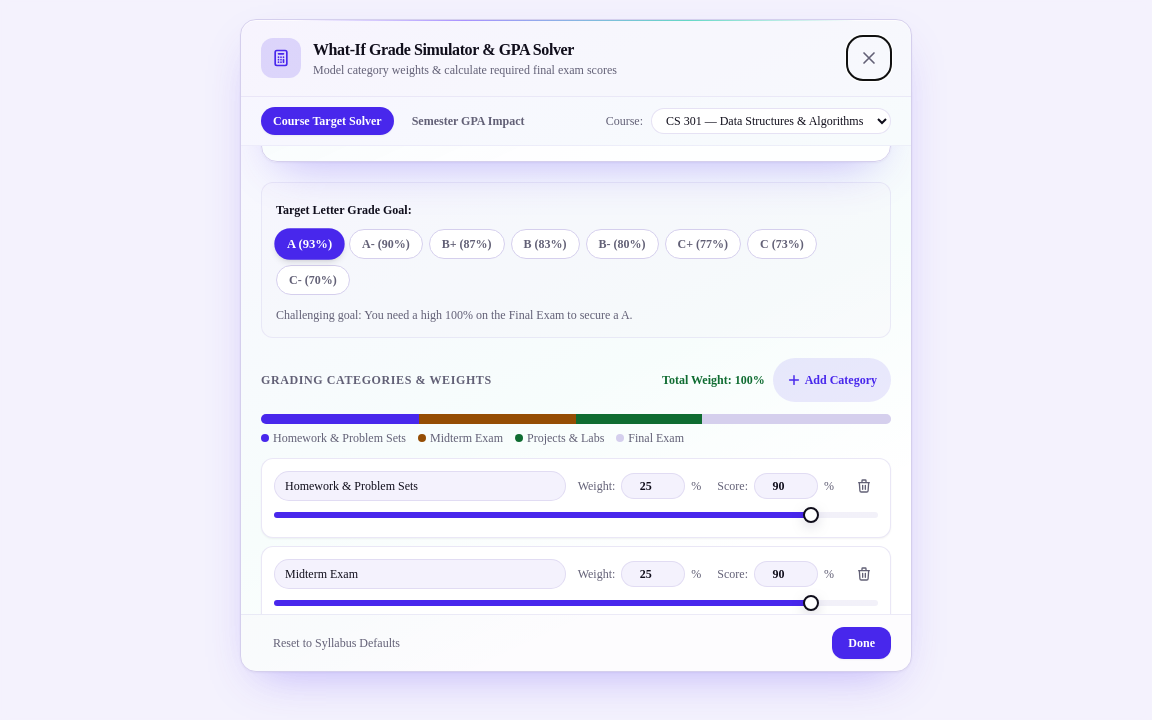
Test: GradeCalculatorModal (Item 36) › allows adding and updating categories dynamically
(page scrolled)
Click the button "Add Category" at (832, 380), box [773,358,891,402]
(page scrolled)
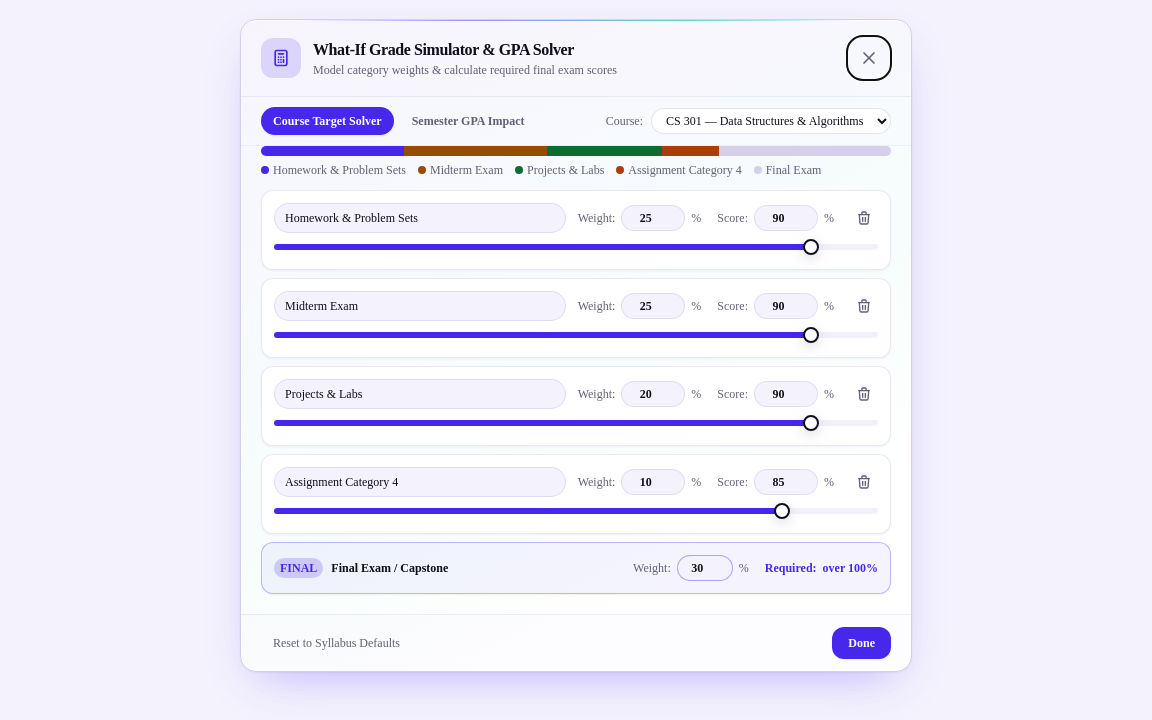
Expected: the field named "Category 4 Name" is shown, [274,467,566,497]
